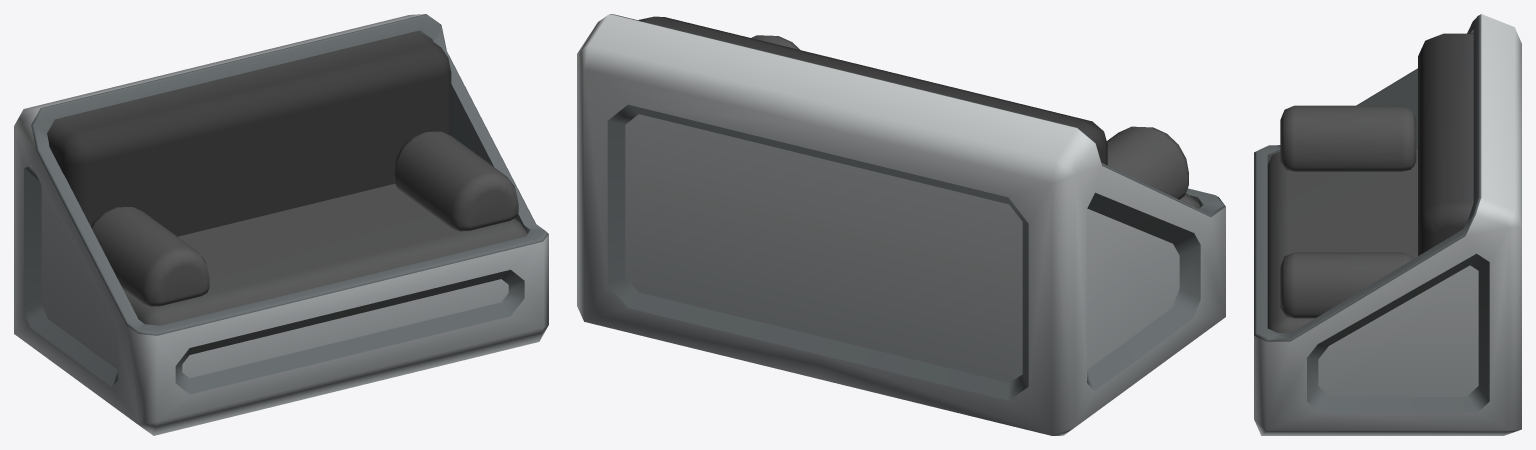
The model's file is Mini_sofa_001.fbx.
The picture shows the model from 3 angles, left to right: view 1: azimuth 30°, elevation 25°; view 2: azimuth 150°, elevation 25°; view 3: azimuth 270°, elevation 25°; orthographic projection. The views are drawn at different scales.
Visible parts, largest first — view 1: Mini_sofa_001; view 2: Mini_sofa_001; view 3: Mini_sofa_001.
Boxes of the visible parts, bbox=[...] form: Mini_sofa_001: bbox=[14, 14, 548, 435]; Mini_sofa_001: bbox=[577, 14, 1225, 435]; Mini_sofa_001: bbox=[1254, 14, 1521, 435].
Bounding box in the file's own units: 148 × 85.72 × 84.32.
